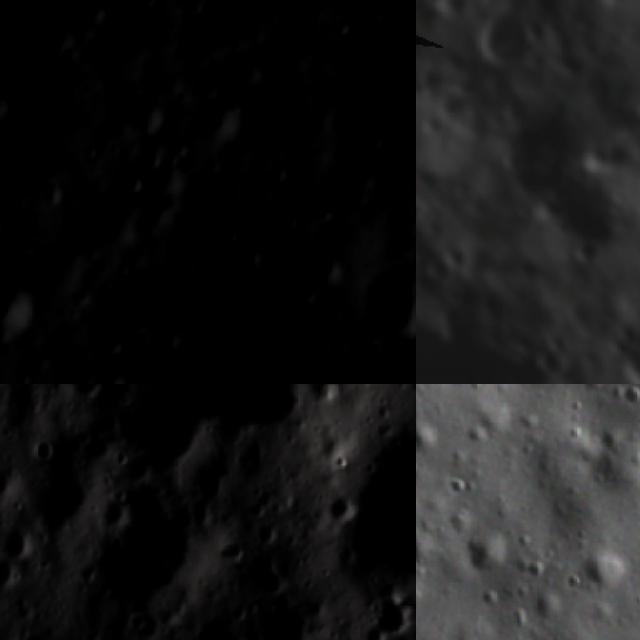crater: (97, 476, 209, 630), (357, 257, 416, 344), (257, 578, 318, 640), (480, 8, 537, 66), (465, 526, 521, 579), (0, 279, 40, 347), (192, 97, 245, 145), (357, 593, 410, 640), (23, 428, 66, 466), (96, 492, 133, 536), (388, 107, 416, 164), (0, 513, 30, 564), (309, 250, 344, 289), (321, 492, 355, 532), (152, 318, 188, 355), (420, 254, 458, 285), (40, 25, 73, 56), (264, 157, 295, 188), (358, 0, 391, 28), (91, 362, 133, 384), (566, 238, 596, 268), (66, 384, 107, 405), (331, 15, 356, 44), (79, 0, 108, 24), (241, 240, 264, 270), (0, 83, 14, 126), (400, 354, 416, 384), (416, 199, 424, 220)
